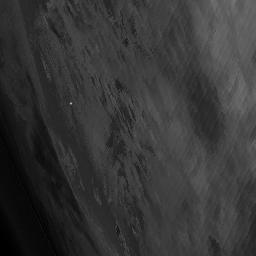Target: (68, 101, 73, 107)
